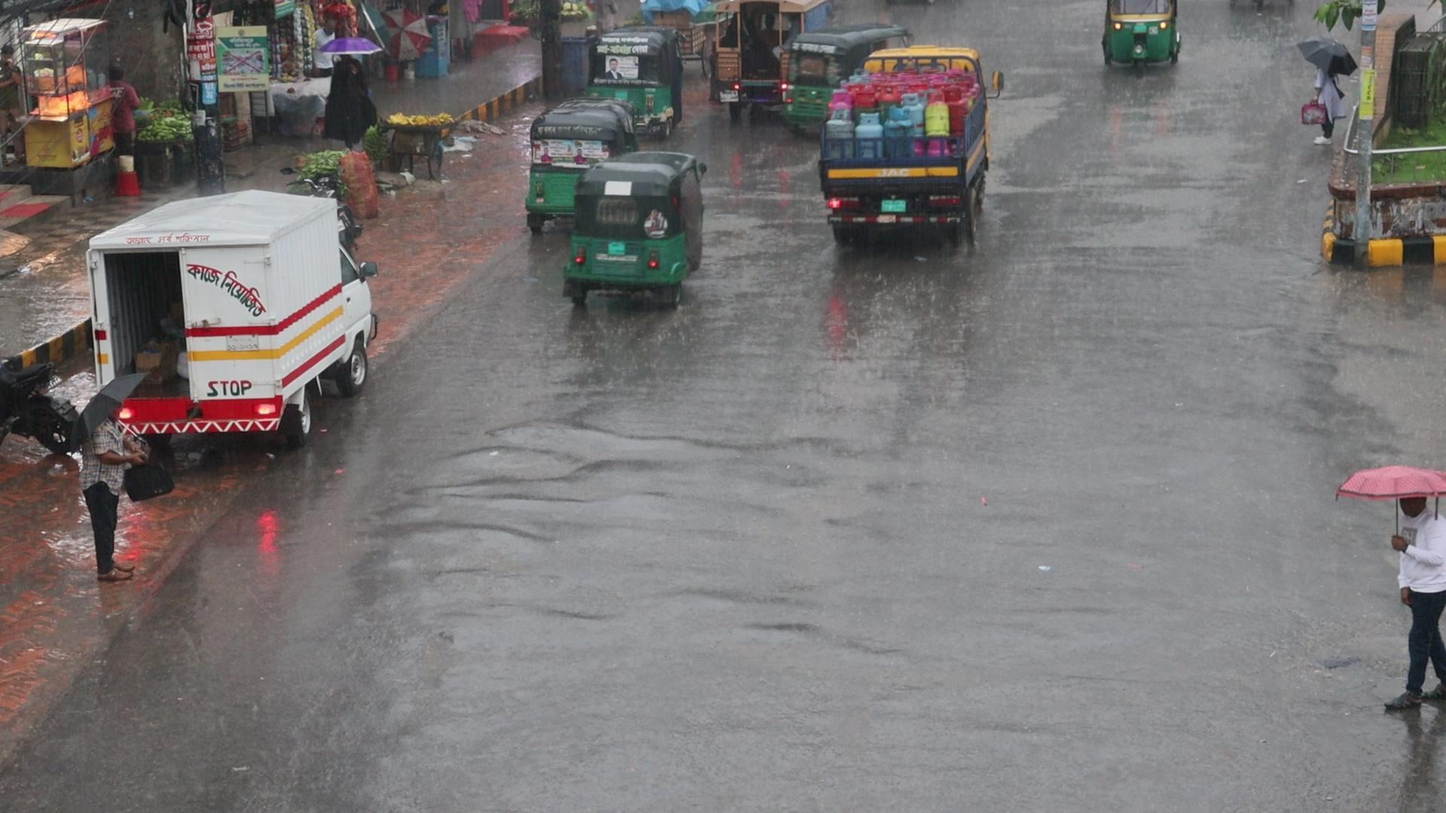Truck: (819, 40, 993, 239)
